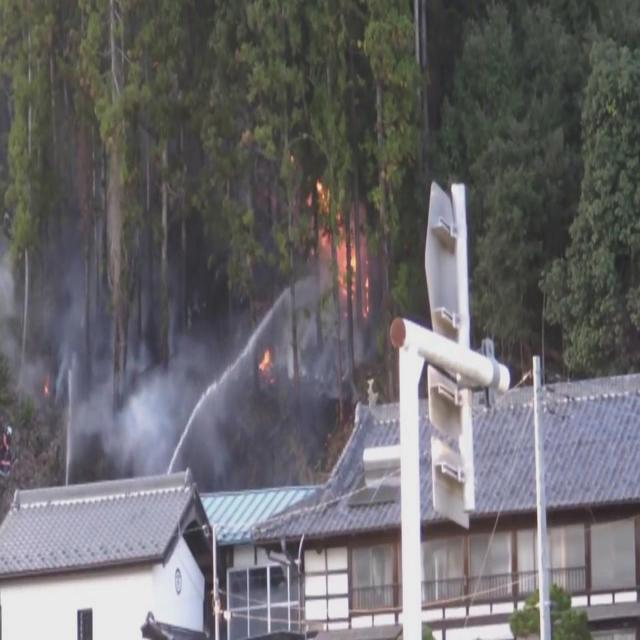Fire: (309, 180, 371, 318), (257, 346, 273, 373)
